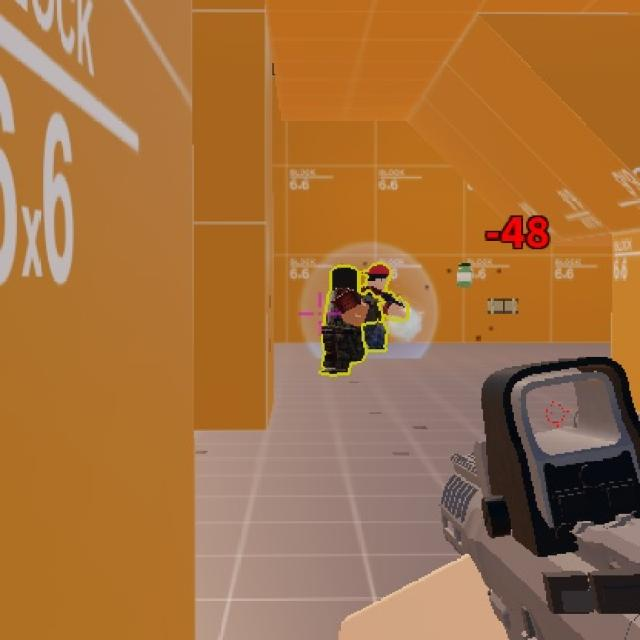player: (330, 255, 402, 361), (315, 260, 371, 376)
